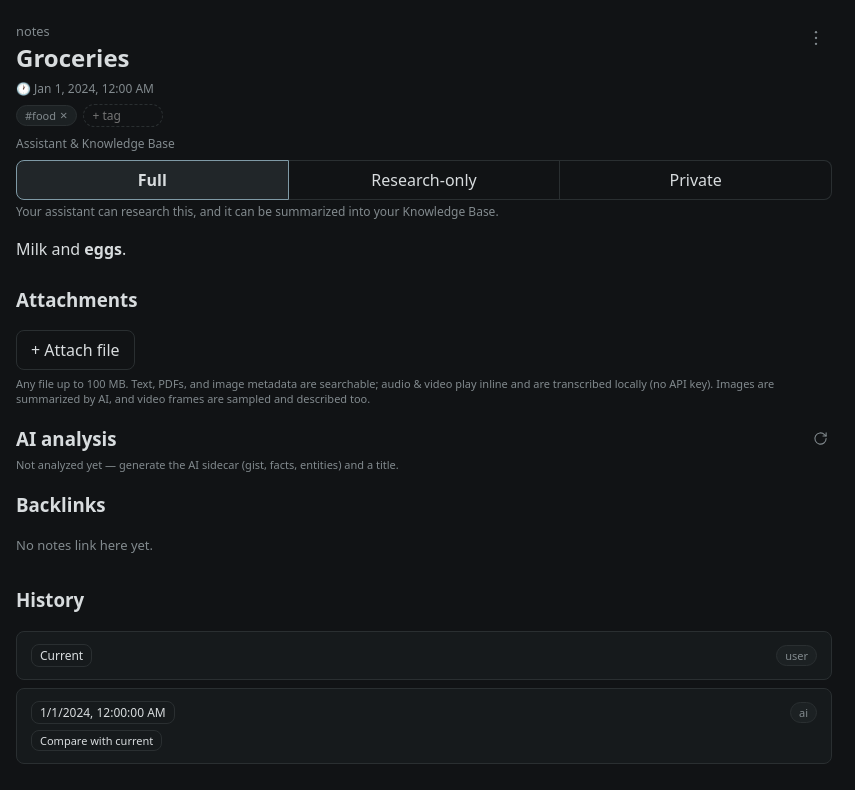
Test: NotePage › edit → save issues a PUT with the new body and reflects the saved content
The image size is (855, 790).
Expected: the heading "Groceries" is shown, [16,41,130,74]
Note: Open the kebab actions menu and click Edit.
Click the button named "Page actions" at (816, 38), box [794,16,838,60]
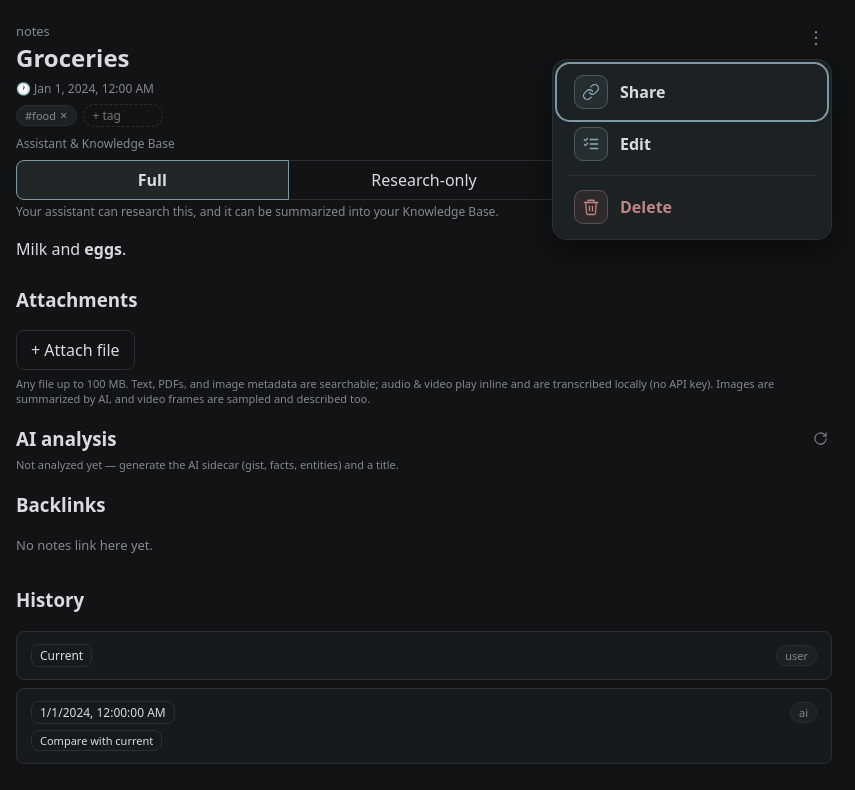
Click the menu item "Edit" at (591, 144), box [559,118,825,170]
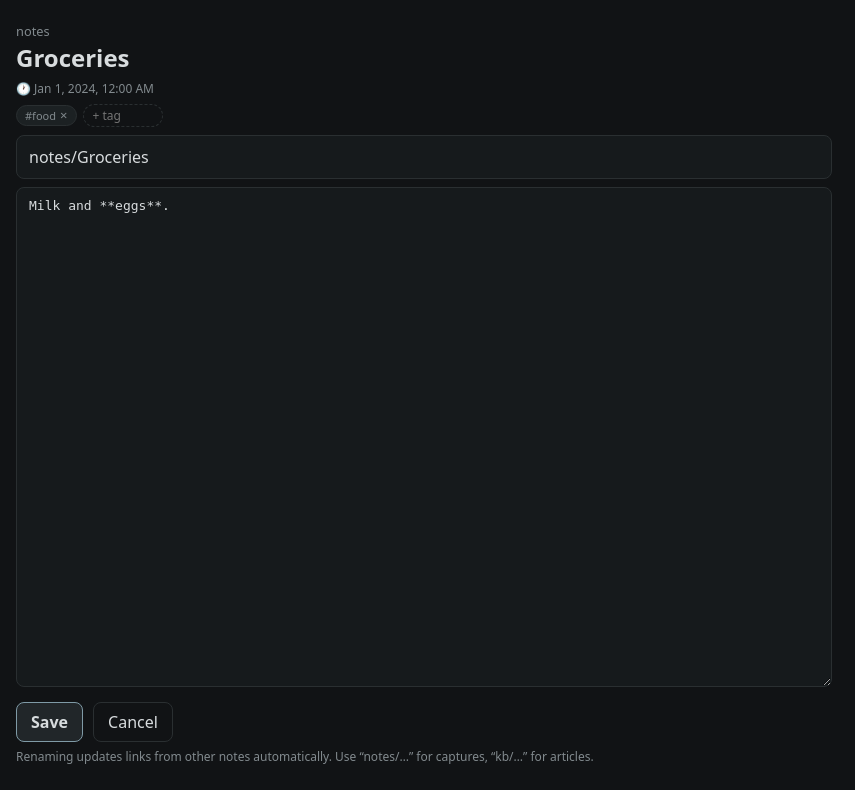
Replace the text in the text box with class "note-edit-area" with "Bread only." at (424, 437), box [16,187,832,687]
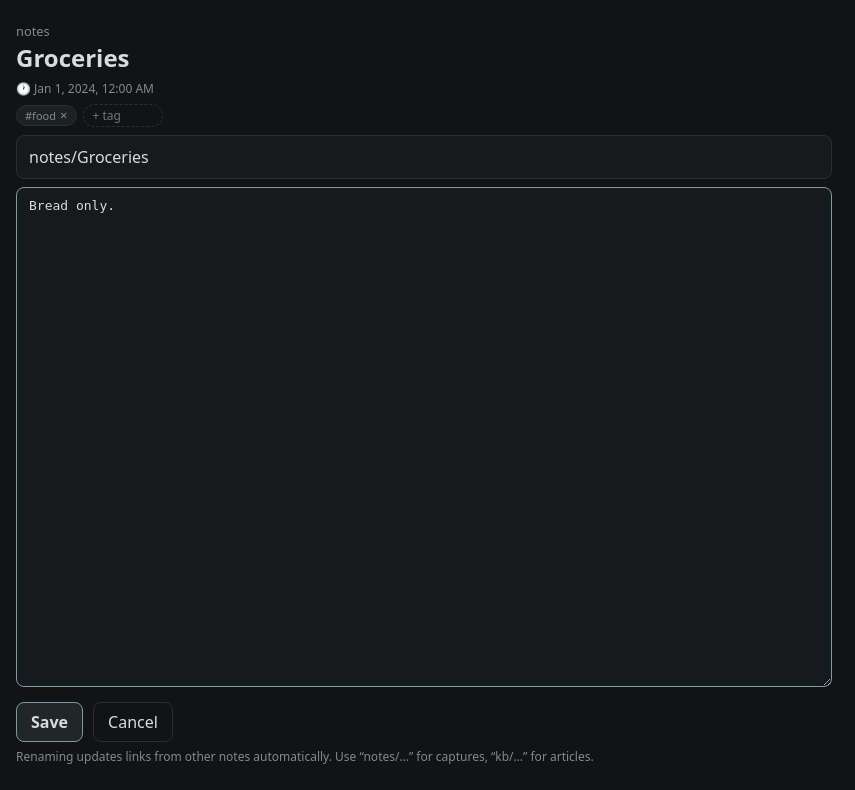
Click the button "Save" at (50, 722), box [16,702,83,742]
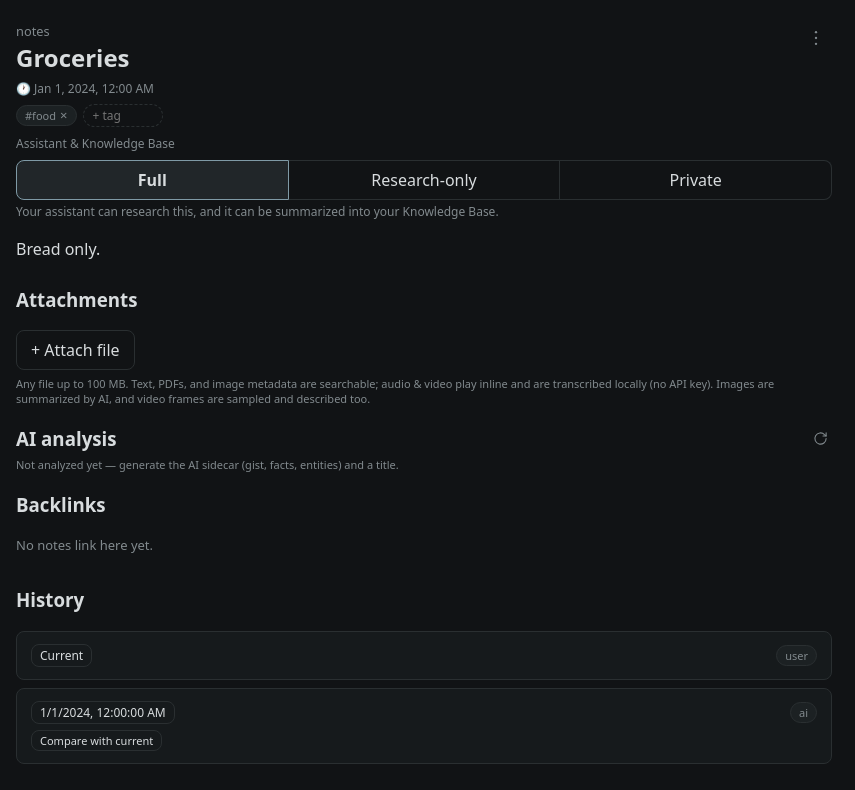
Now the text "Bread only." is shown, box [16,238,100,260]
